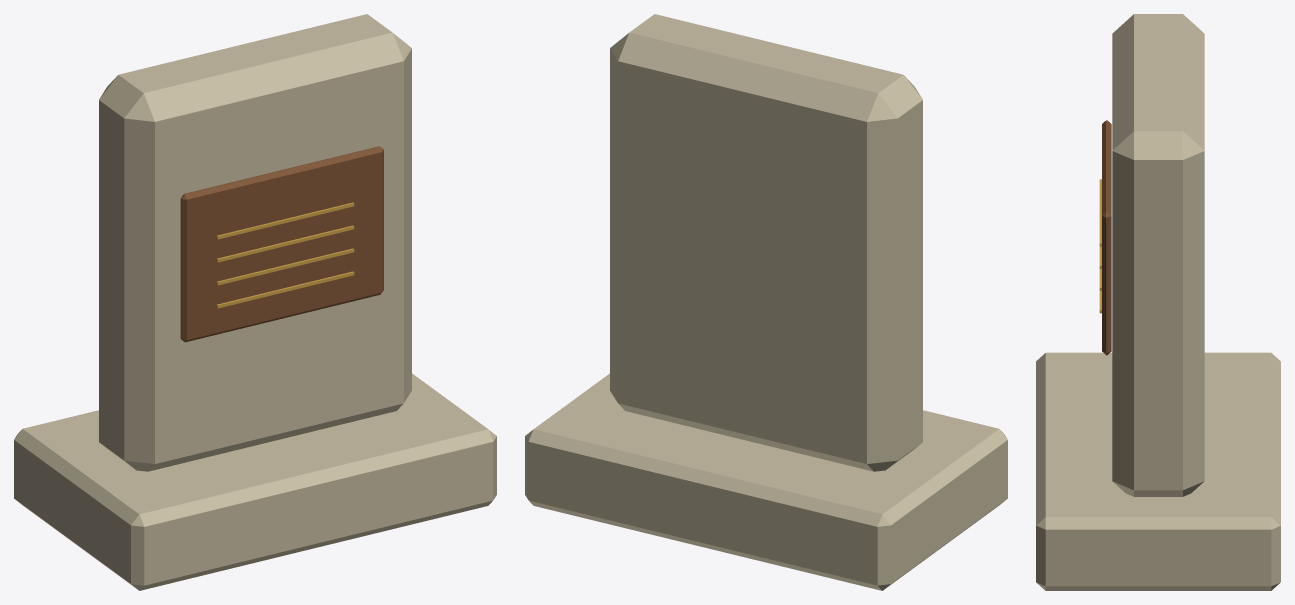
Rendered from memorial_stone.glb.
3 renders of one model, left to right at view 1: azimuth 30°, elevation 25°; view 2: azimuth 150°, elevation 25°; view 3: azimuth 270°, elevation 25°, orthographic. The views are drawn at different scales.
Visible parts, largest first — view 1: memorial_stone; view 2: memorial_stone; view 3: memorial_stone.
Part boxes in pixels (box(x1,y1,x2,y2)): memorial_stone: box(14, 14, 496, 590); memorial_stone: box(525, 14, 1007, 590); memorial_stone: box(1036, 14, 1280, 590).
Size of the model in its own units: 1.5 by 1.77 by 0.9.
